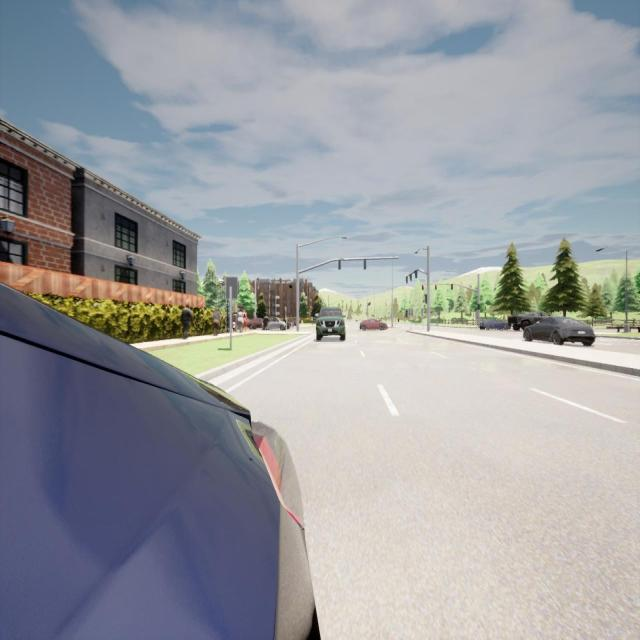Pedestrian: (180, 302, 194, 341), (211, 304, 222, 338), (236, 305, 244, 335), (262, 310, 270, 335), (243, 309, 250, 334), (231, 318, 236, 334)
Traffic_Signs: (226, 277, 238, 299), (408, 308, 413, 316)
Vehicle: (0, 283, 314, 638), (523, 316, 596, 348), (316, 304, 345, 341), (508, 313, 548, 331), (478, 317, 505, 334), (361, 317, 388, 333), (265, 317, 287, 331), (248, 318, 264, 330)
traffic_light: (338, 260, 341, 270), (425, 294, 427, 304), (364, 260, 366, 269), (406, 276, 408, 284), (410, 274, 412, 282), (415, 270, 417, 278), (422, 284, 424, 290), (451, 284, 453, 290), (435, 285, 437, 290)
